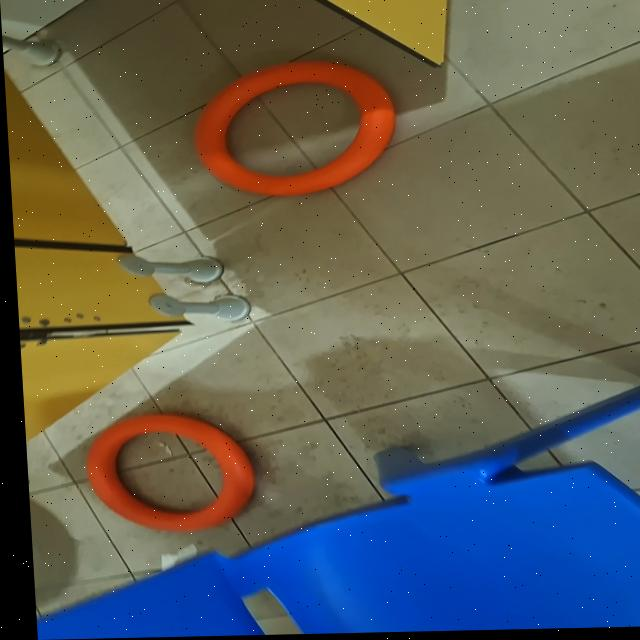note: (188, 59, 399, 200), (77, 412, 253, 535)
